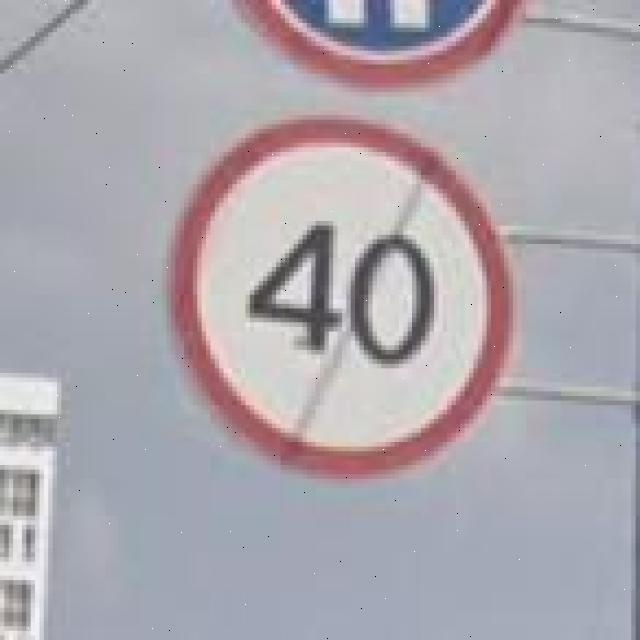speed limit 40: (166, 115, 519, 474)
